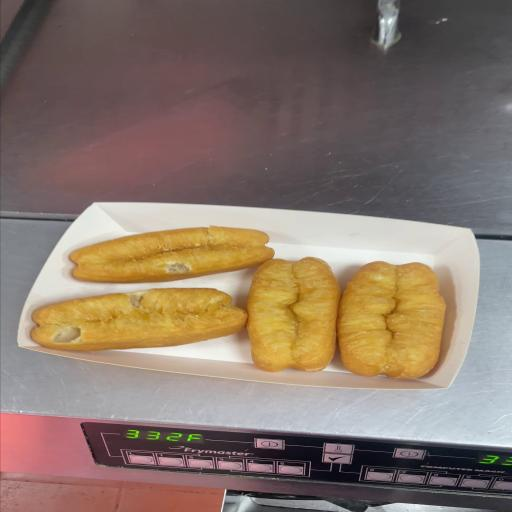brand_golden_defect: (28, 288, 246, 351), (68, 226, 274, 283)
brand_golden_good: (247, 259, 447, 377)
